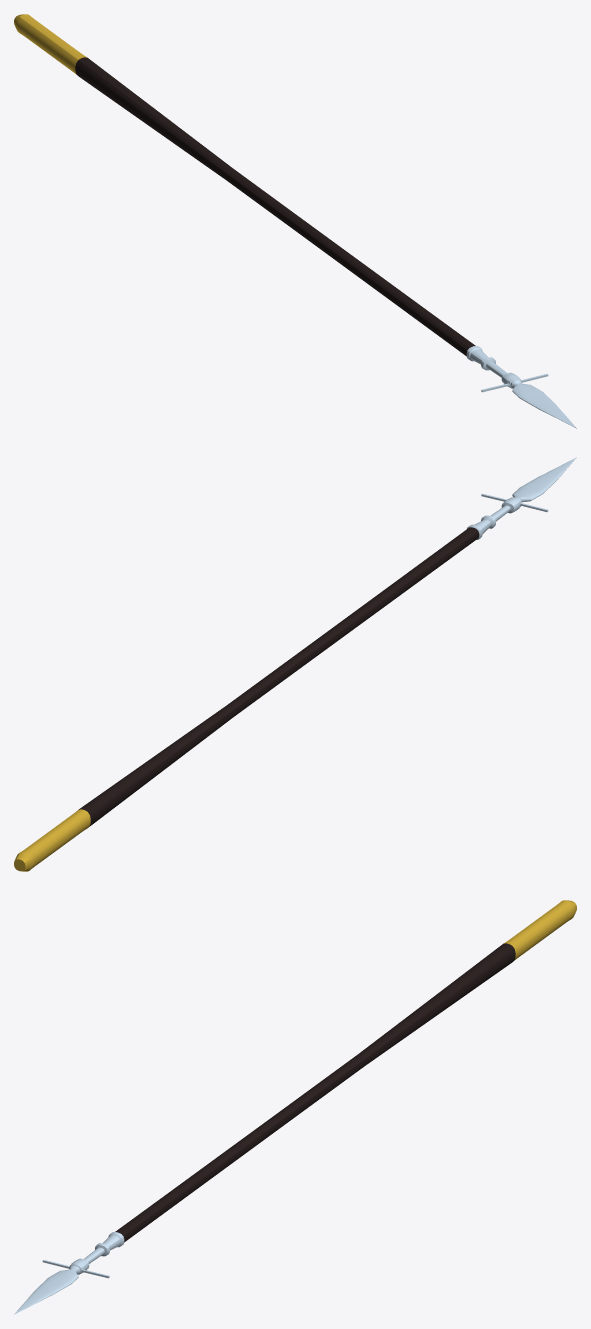
The model's file is weaponSpontoon.obj.
The picture shows the model from 3 angles, top to bottom: view 1: azimuth 30°, elevation 25°; view 2: azimuth 150°, elevation 25°; view 3: azimuth 330°, elevation 25°; orthographic projection.
Parts seen in each view (by area): view 1: Spontoon.003; view 2: Spontoon.003; view 3: Spontoon.003.
Part boxes in pixels (x1,y1,x2,y2): Spontoon.003: (14,14,576,428); Spontoon.003: (14,457,576,871); Spontoon.003: (14,900,576,1314).
Bounding box in the file's own units: 0.2363 × 0.0635 × 3.46.
